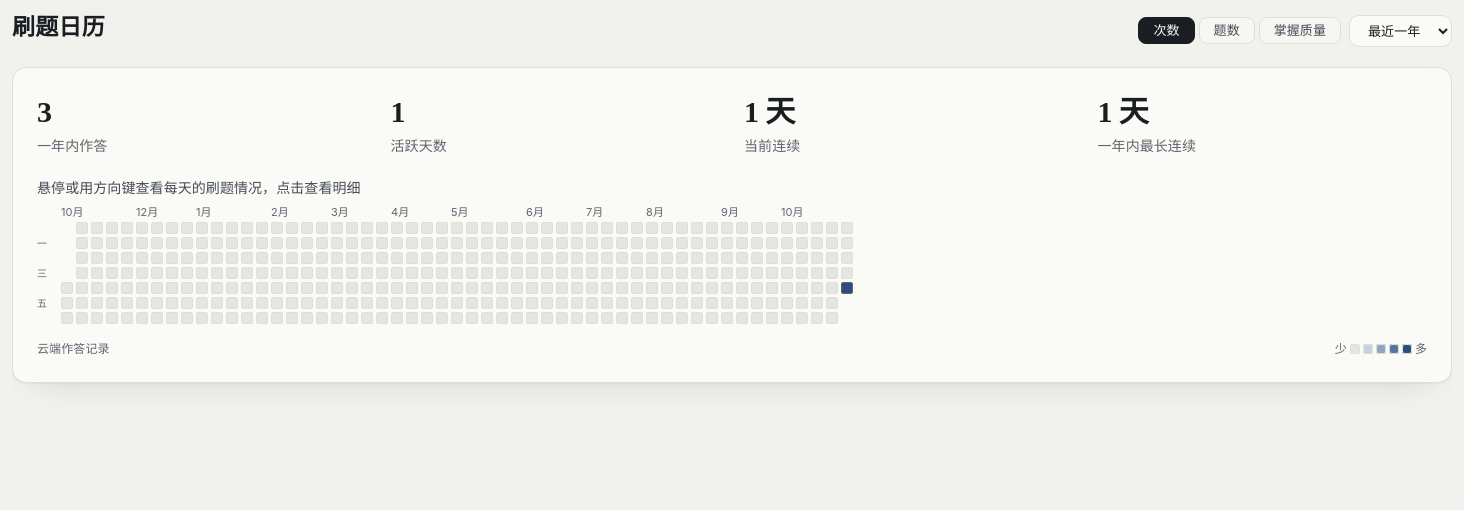
it: PracticeHeatmap › loads cloud aggregates and day attempts for administrators
Check: the text "云端作答记录" is shown, box [37,340,110,358]
Click the button named "2026-10-29 · 3 次 · 2 题 · 平均评分 4.0".
click(847, 288)  # box [841,282,853,294]
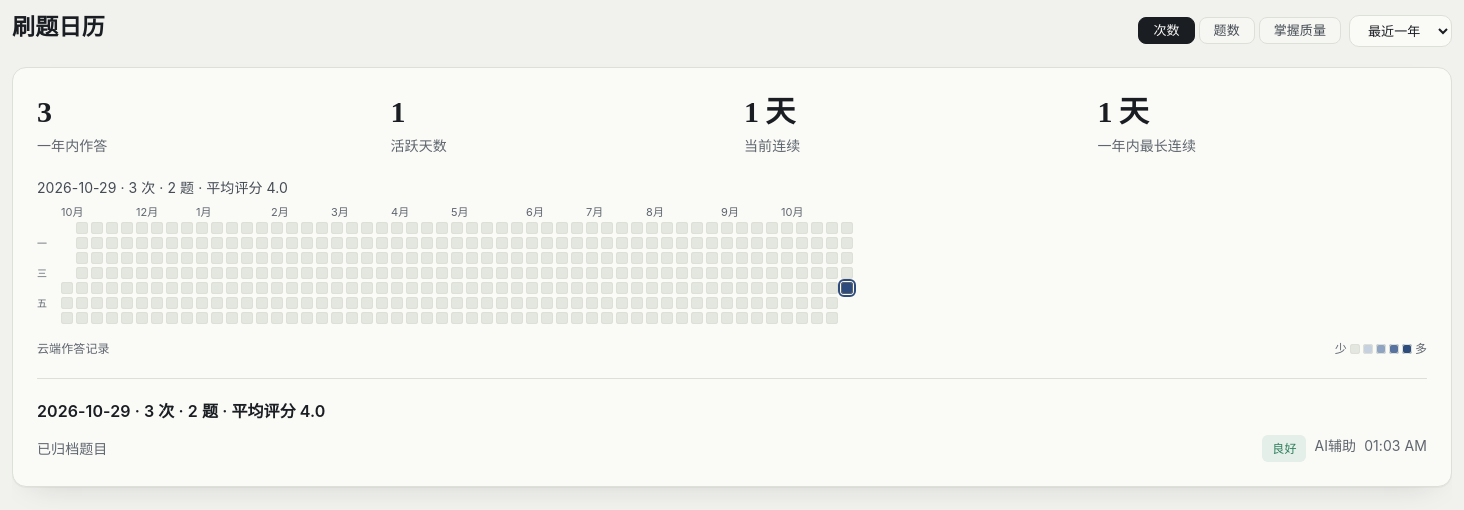
Check: the text "已归档题目" is shown, box [37,438,107,460]
Check: the text "AI辅助" is shown, box [1314,435,1356,462]
